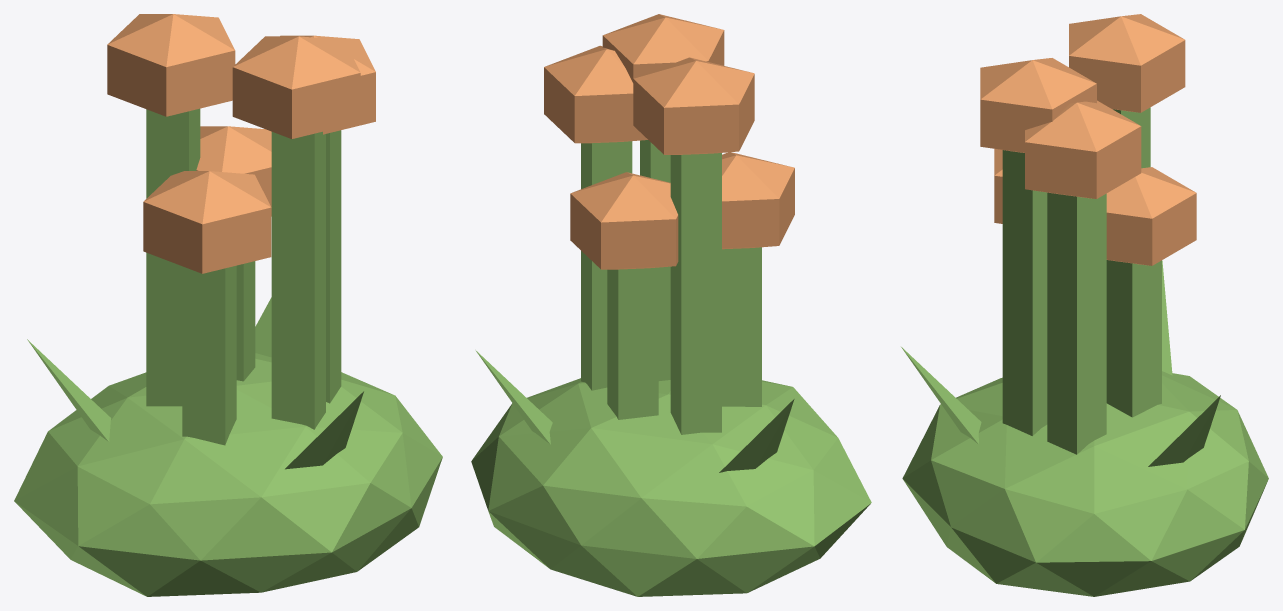
Rendered from flower-clump-peach.glb.
The picture shows the model from 3 angles, left to right: view 1: azimuth 30°, elevation 25°; view 2: azimuth 150°, elevation 25°; view 3: azimuth 270°, elevation 25°; orthographic projection. The views are drawn at different scales.
Parts seen in each view (by area): view 1: meadow-flower-clump-peach; view 2: meadow-flower-clump-peach; view 3: meadow-flower-clump-peach.
Boxes of the visible parts, left/top/right/bottom form: meadow-flower-clump-peach: left=14, top=14, right=442, bottom=596; meadow-flower-clump-peach: left=471, top=14, right=871, bottom=596; meadow-flower-clump-peach: left=901, top=14, right=1268, bottom=596.
Size of the model in its own units: 0.2981 by 0.3985 by 0.2731.
